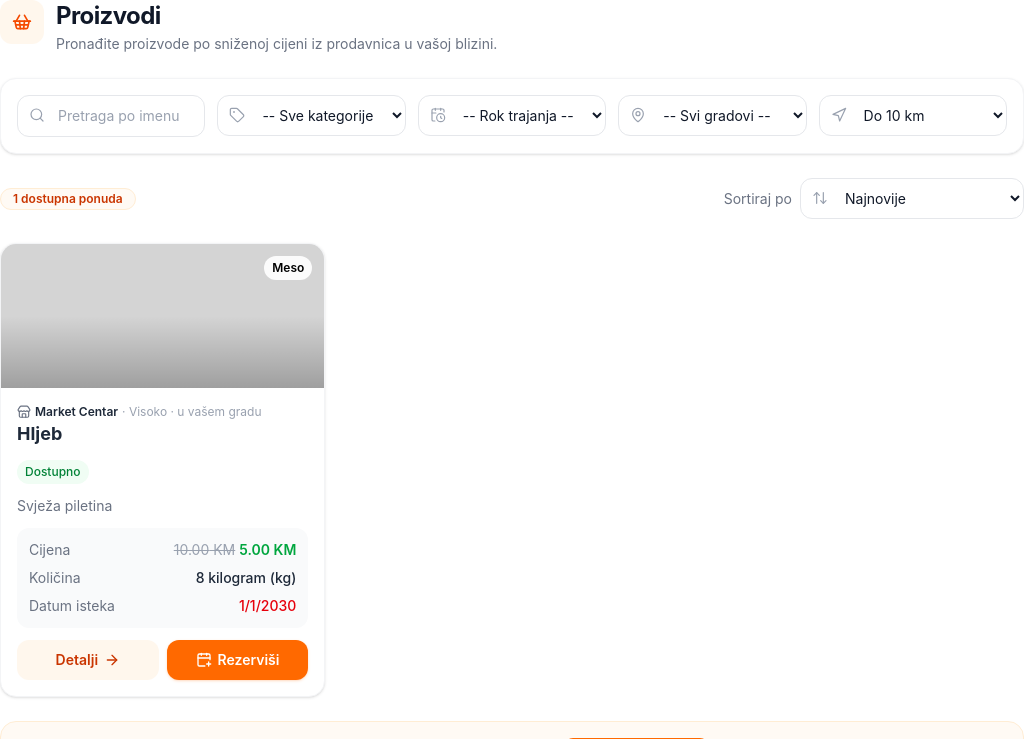
Test: BrowseProductsPage distance › shows no hint and no radius empty state with all cities
expect the heading "Hljeb" is shown: met, box [17,423,62,444]
Select "Svi gradovi" in the dropdown named "Udaljenost": (913, 116) [819,95,1007,136]
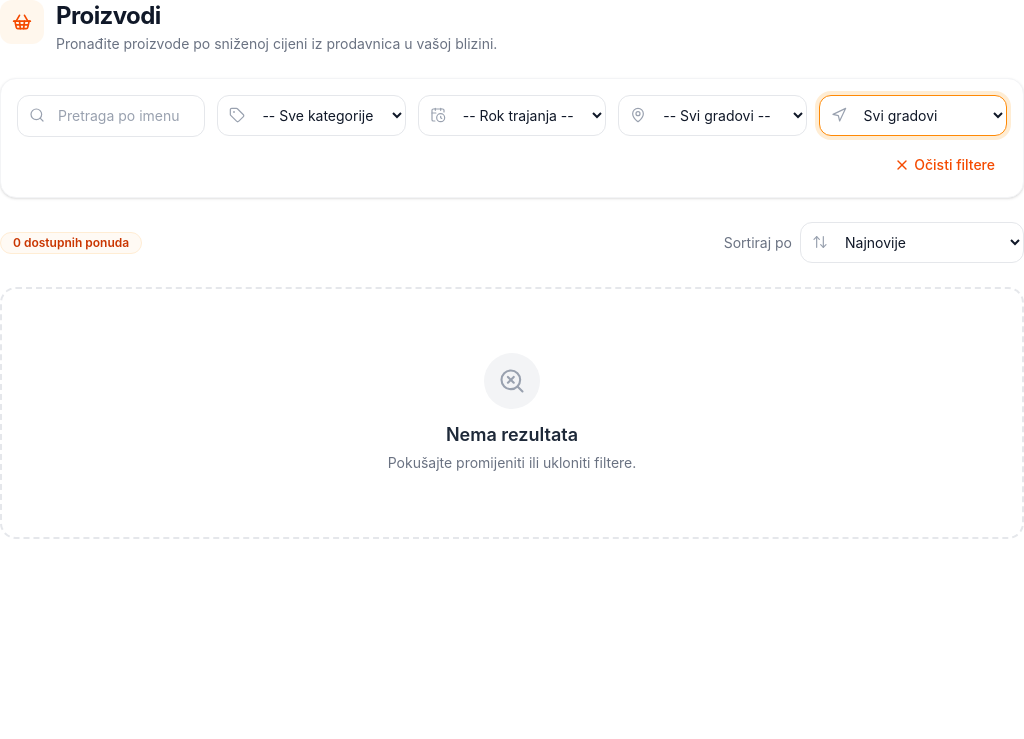
expect the heading "Nema rezultata" is shown: met, box [446,424,578,445]
